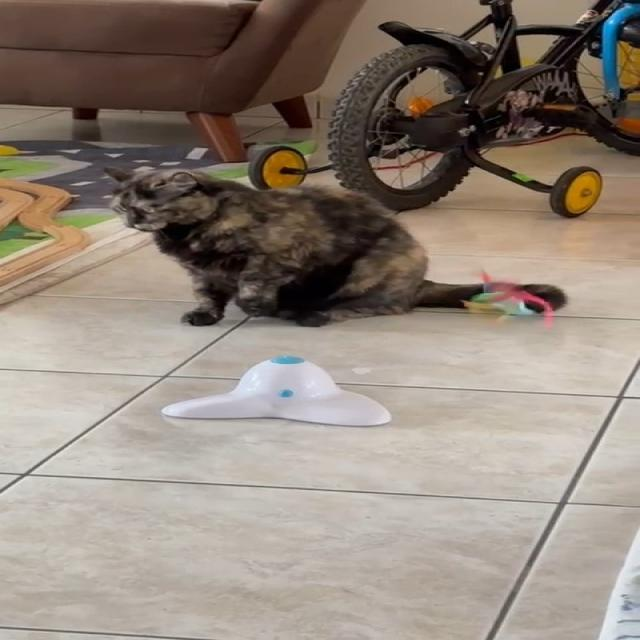authorized: (101, 165, 568, 328)
